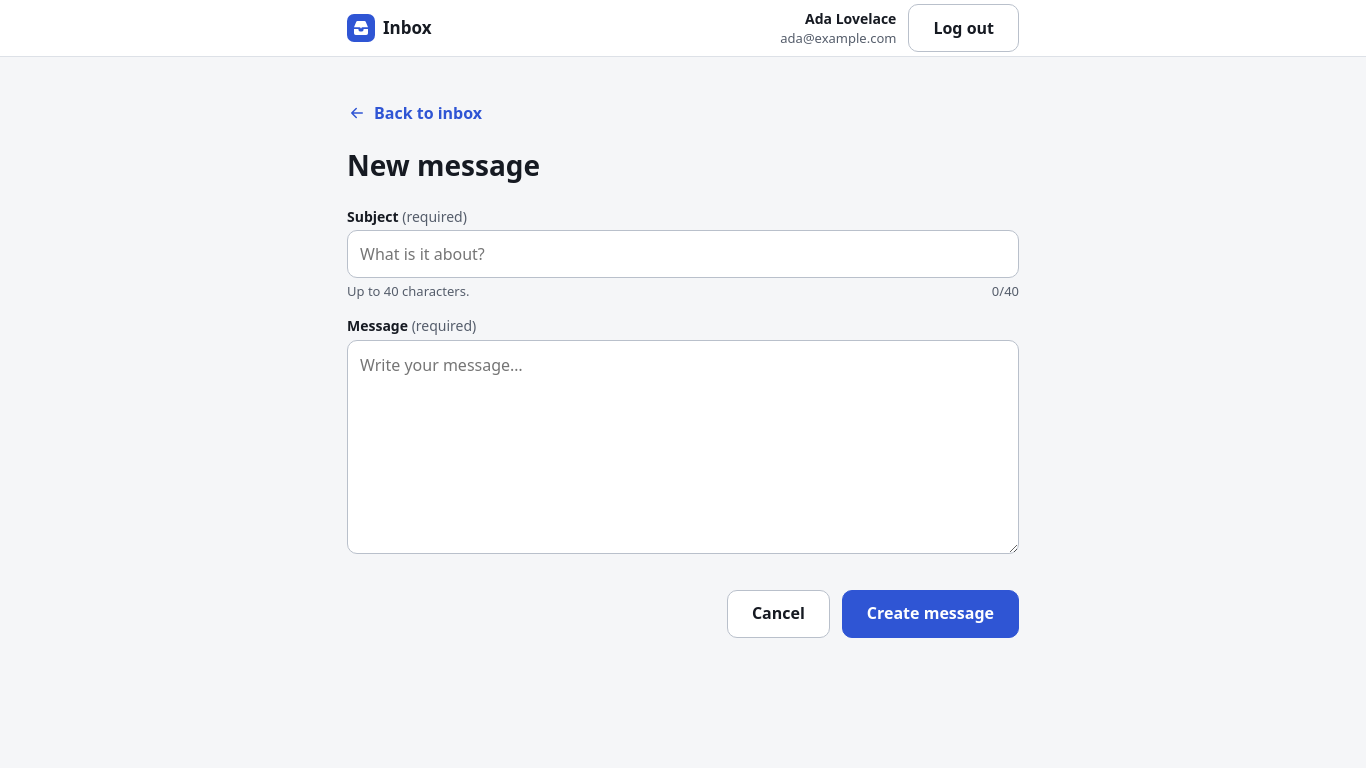
Test: Leaving with a draft › leaves immediately when nothing was typed
Expected: the field labelled "Subject (required)" is shown, [347,230,1019,278]
Click the link "Cancel": (778, 614) [727,590,830,638]
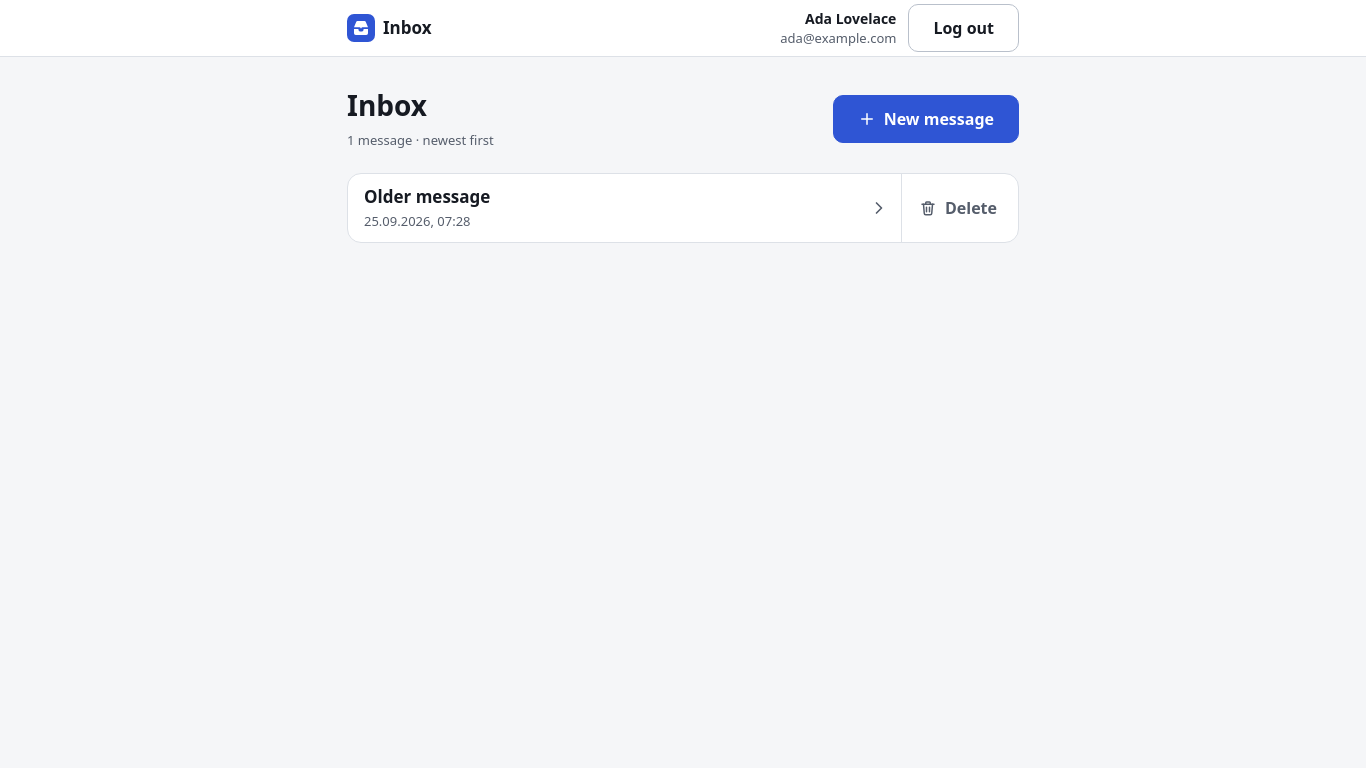
Expected: the heading "Inbox" is shown, [347,86,427,124]
